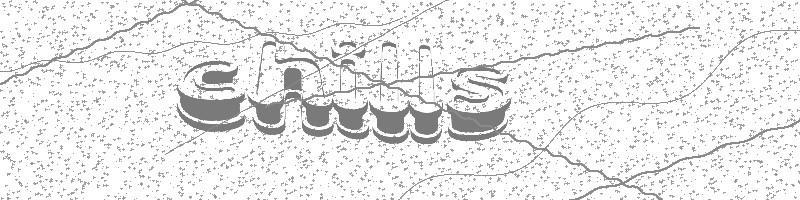c: (174, 58, 247, 134)
h: (248, 40, 333, 138)
i: (331, 38, 369, 141)
l: (370, 40, 409, 145), (409, 43, 442, 145)
s: (446, 66, 511, 142)
